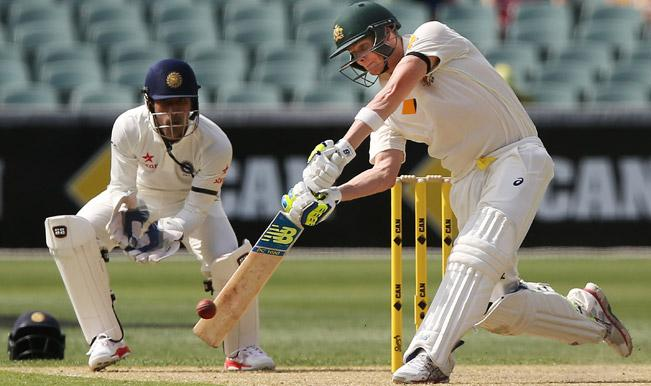batsman: (192, 4, 634, 381)
